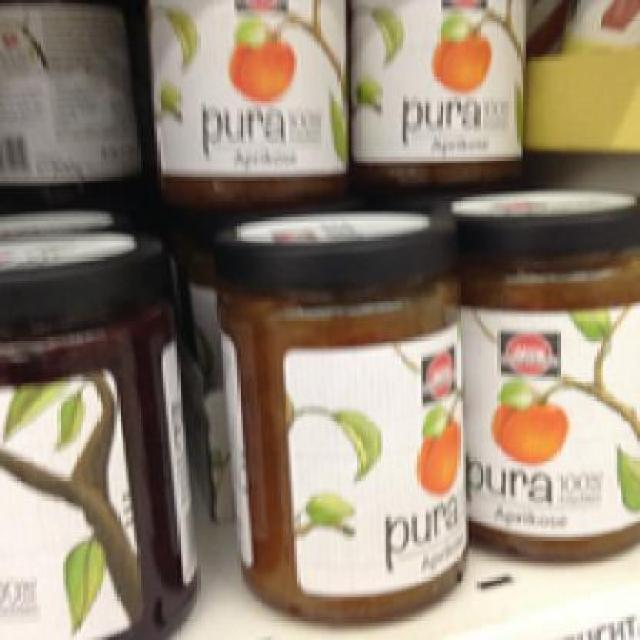Jam: (206, 205, 468, 626), (0, 232, 203, 638), (440, 183, 637, 560), (142, 0, 348, 209), (348, 0, 526, 200)
